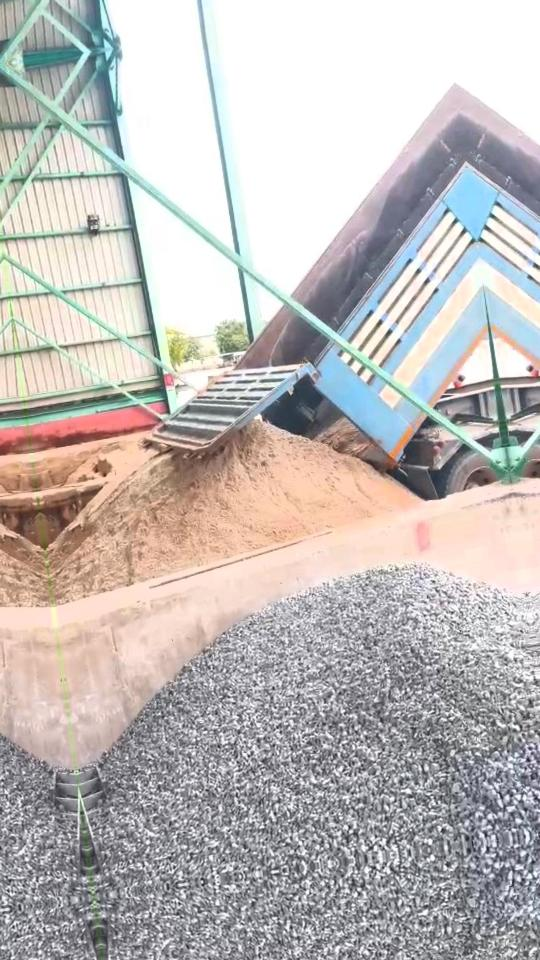gravel: (94, 565, 540, 894)
sand: (49, 421, 419, 602), (316, 417, 389, 470), (68, 448, 134, 483)
